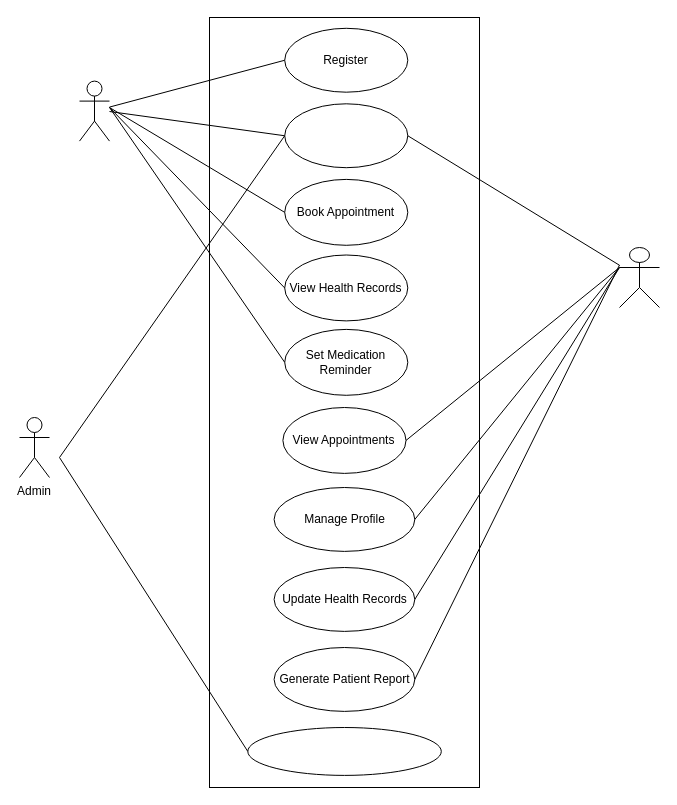
This 677x805 diagram has some shape labels left out. Each missing label, with the centre of its shape:
"Doctor" goes at [639,277].
"Generate Appointment Report" goes at [344,750].
"Login" goes at [346,135].
"Patient" goes at [94,110].
